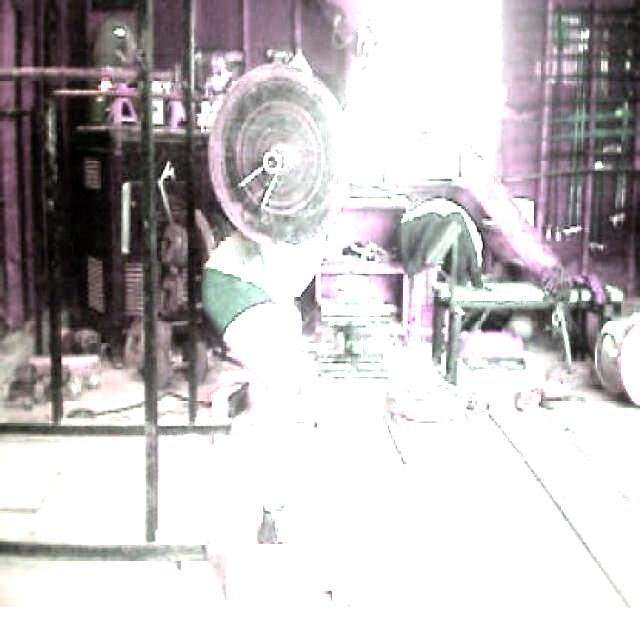barbell: (201, 60, 352, 253)
